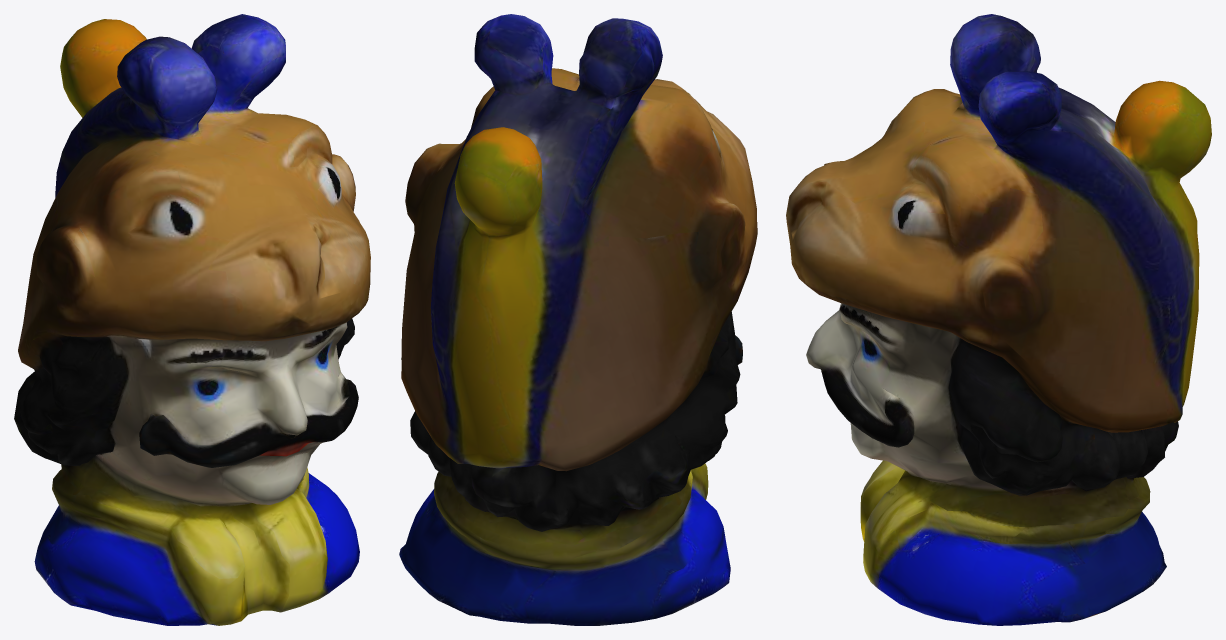
Rendered from SzwedA.glb.
3 views of the same model, side by side, from view 1: azimuth 30°, elevation 25°; view 2: azimuth 150°, elevation 25°; view 3: azimuth 270°, elevation 25° (orthographic). The views are drawn at different scales.
Visible parts, largest first — view 1: SzwedA; view 2: SzwedA; view 3: SzwedA.
Boxes of the visible parts, box(x1,y1,x2,y2) form: SzwedA: box(14, 14, 370, 625); SzwedA: box(399, 14, 757, 625); SzwedA: box(786, 14, 1211, 625).
Bounding box in the file's own units: 0.5736 × 0.9348 × 0.6951.
Materials: 1 (1 with a texture image).
